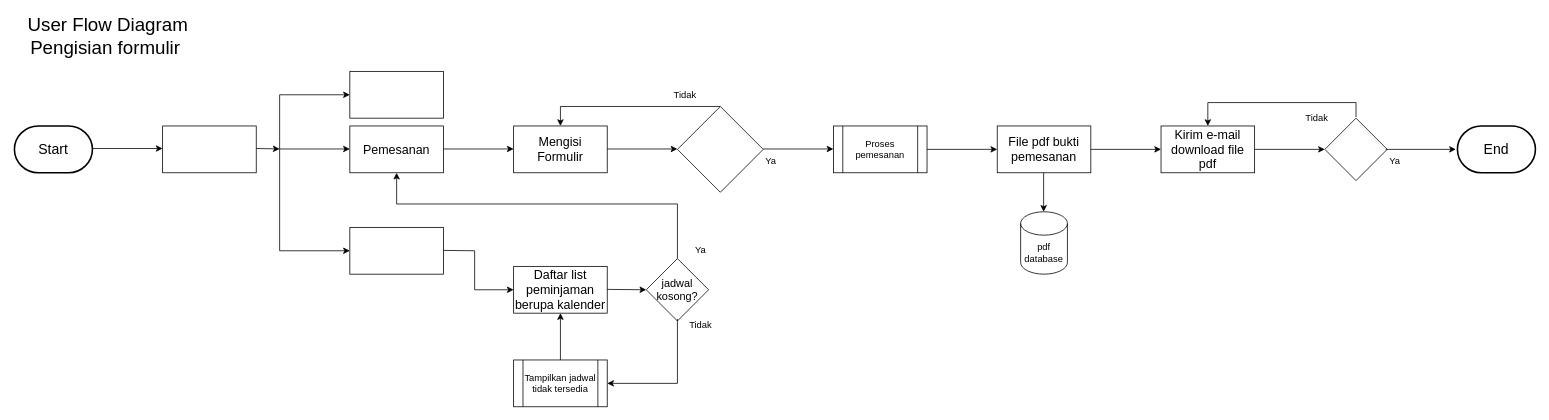
Image size: 1549x420. Some labels were removed from this diagram. The shapes that lost their labels are listed below. From the top down, each one's centre as x and y in pixels, then its label:
the point at 396,94: Tentang Kami
the point at 209,149: Beranda
the point at 720,149: Formulir sudah disubmit?
the point at 1355,149: E-mail diterima?
the point at 396,250: Jadwal
